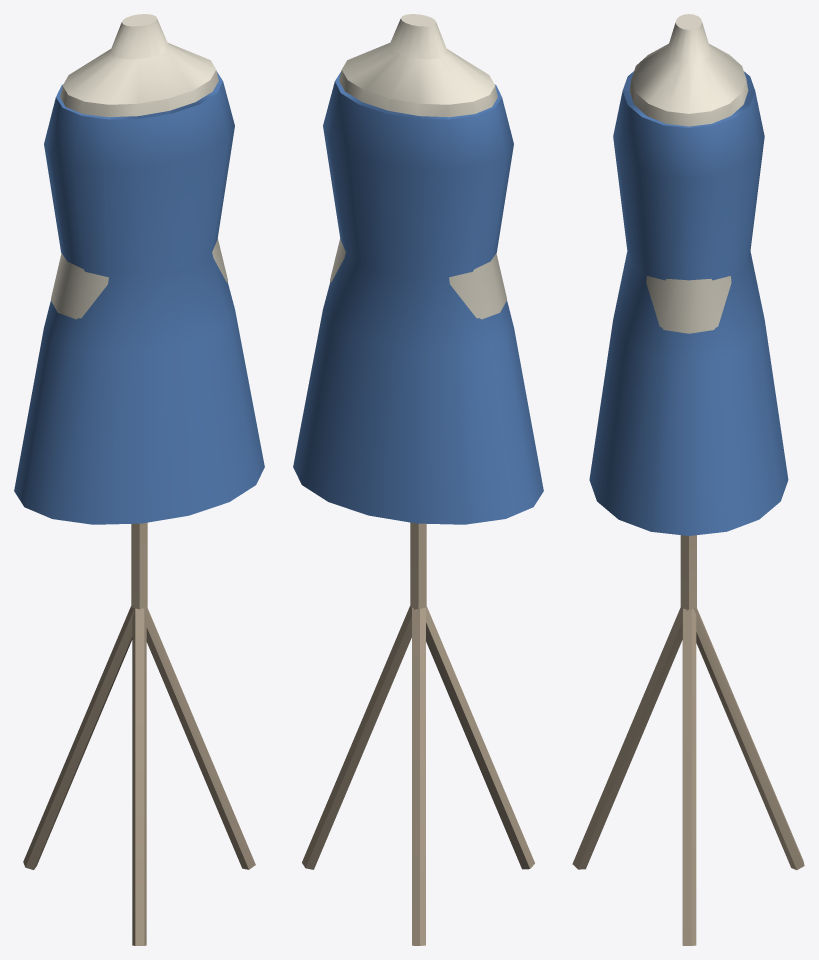
File: dress_form.glb
3 views of the same model, side by side, from view 1: azimuth 30°, elevation 25°; view 2: azimuth 150°, elevation 25°; view 3: azimuth 270°, elevation 25° (orthographic).
Parts seen in each view (by area): view 1: static; view 2: static; view 3: static.
Part boxes in pixels (left/top/right/bottom): static: left=14, top=14, right=264, bottom=945; static: left=293, top=14, right=543, bottom=945; static: left=572, top=14, right=804, bottom=945.
Bounding box in the file's own units: 0.4203 × 1.52 × 0.3676.
